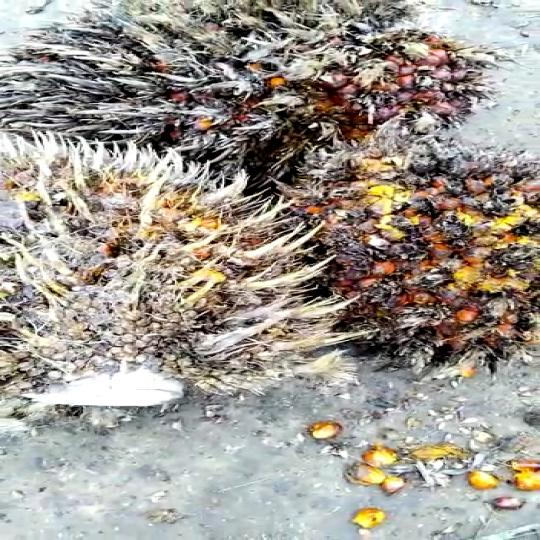terlalu masak: (0, 137, 380, 417), (0, 0, 456, 170)
